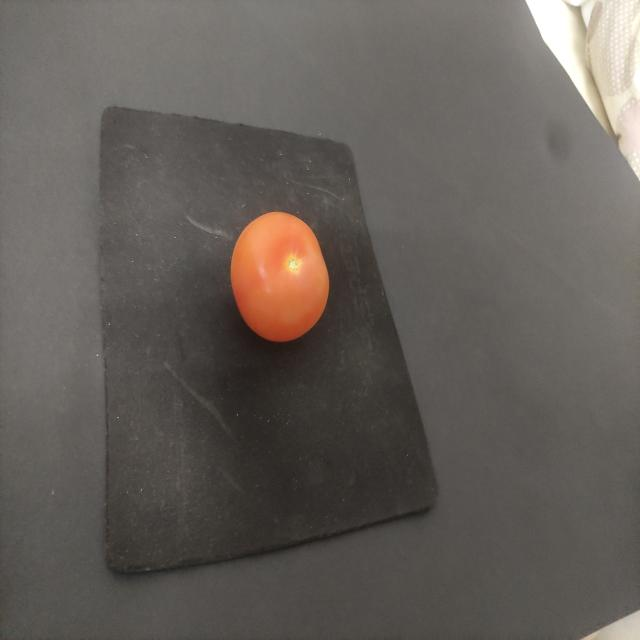sari: (226, 203, 340, 365)
